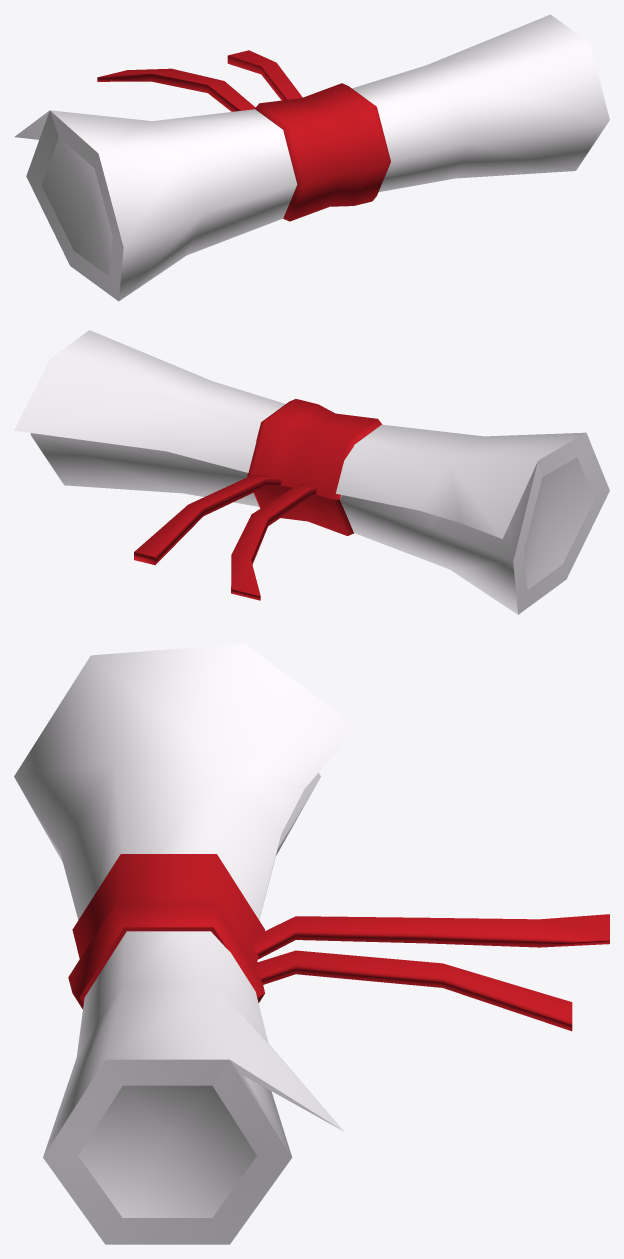
Rendered from Roll.fbx.
3 views of the same model, one above another, from view 1: azimuth 30°, elevation 25°; view 2: azimuth 150°, elevation 25°; view 3: azimuth 270°, elevation 25° (orthographic). The views are drawn at different scales.
Parts seen in each view (by area): view 1: _roll:_roll_0; view 2: _roll:_roll_0; view 3: _roll:_roll_0.
Part boxes in pixels (x1=…): _roll:_roll_0: x1=14, y1=14, x2=609, y2=301; _roll:_roll_0: x1=14, y1=330, x2=609, y2=614; _roll:_roll_0: x1=14, y1=643, x2=609, y2=1244.
Size of the model in its own units: 1.32 by 0.4075 by 0.8696.
